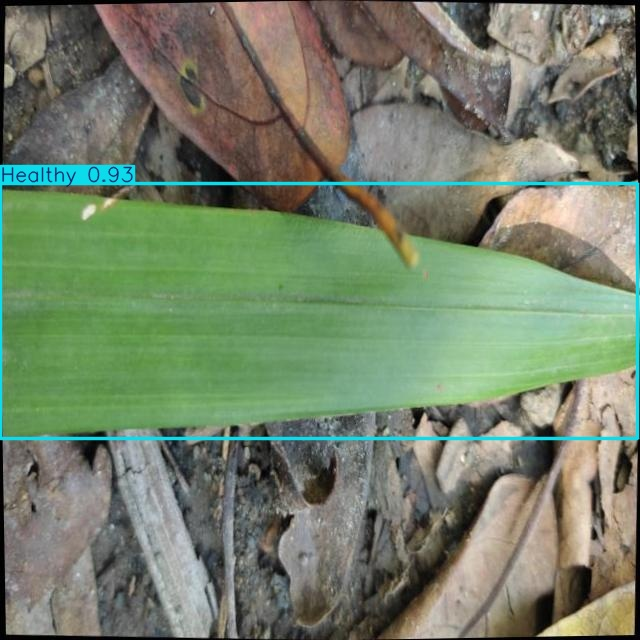Healthy: (1, 184, 637, 439)
